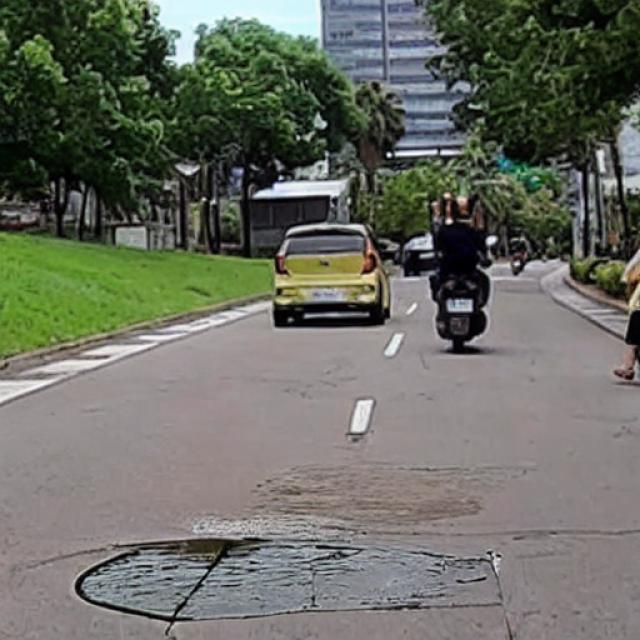puddle: (81, 539, 496, 620)
